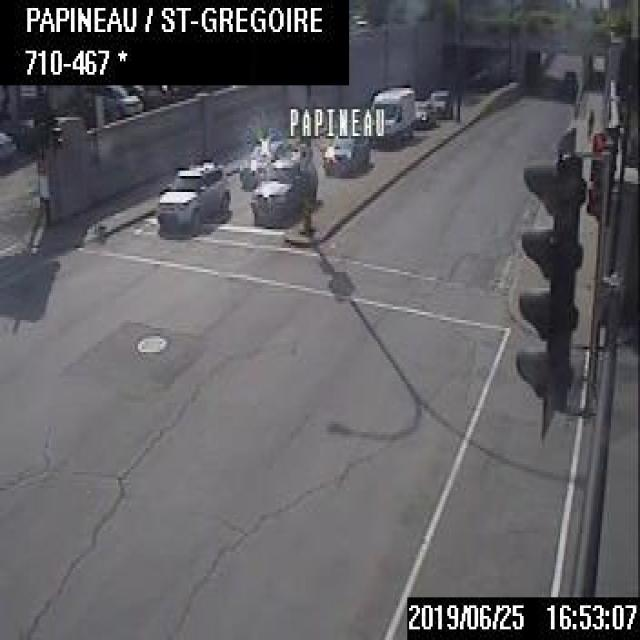vehicle: (153, 160, 228, 235), (251, 144, 316, 224), (368, 83, 415, 144), (322, 126, 371, 174), (238, 138, 284, 188), (86, 82, 142, 115), (428, 87, 452, 121), (415, 100, 433, 130)
